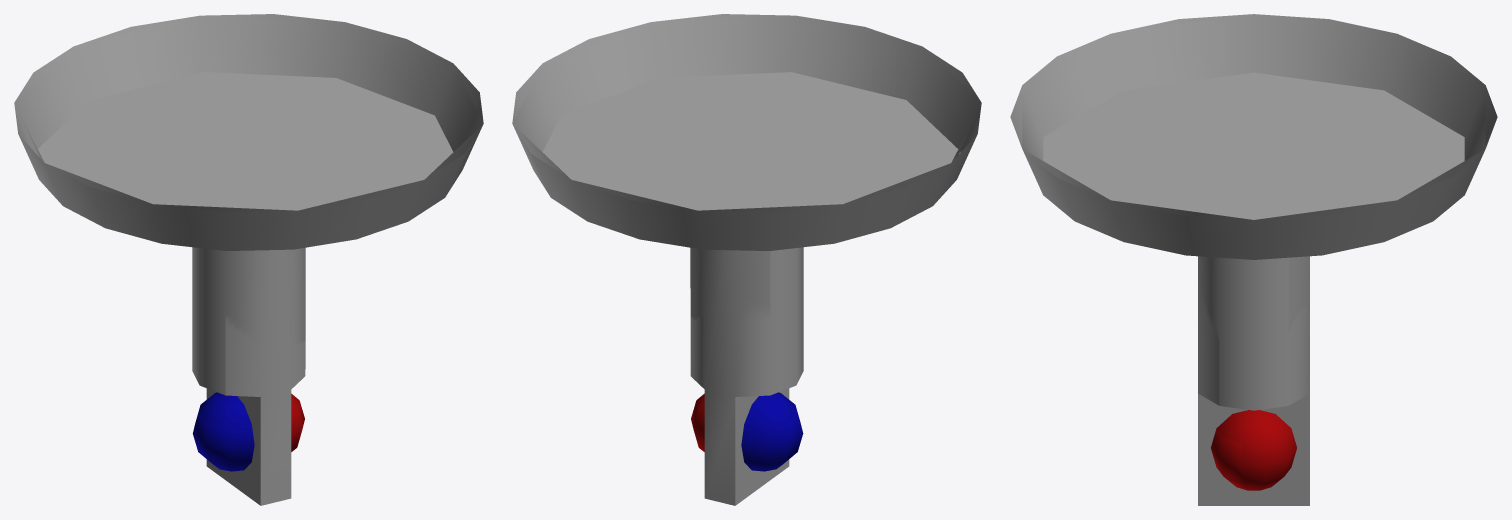
The model's file is SC19 Lamp V01.fbx.
The picture shows the model from 3 angles, left to right: view 1: azimuth 30°, elevation 25°; view 2: azimuth 150°, elevation 25°; view 3: azimuth 270°, elevation 25°; orthographic projection. The views are drawn at different scales.
Visible parts, largest first — view 1: SC19 - Chamber V01 Lamp 01 LOW, SC19 - Chamber V01 Lamp 01 HI, SC19 - Chamber V01 Lamp 02 LOW, SC19 - Chamber V01 Lamp 02 HI; view 2: SC19 - Chamber V01 Lamp 01 LOW, SC19 - Chamber V01 Lamp 02 LOW, SC19 - Chamber V01 Lamp 01 HI, SC19 - Chamber V01 Lamp 02 HI; view 3: SC19 - Chamber V01 Lamp 01 LOW, SC19 - Chamber V01 Lamp 02 LOW, SC19 - Chamber V01 Lamp 01 HI, SC19 - Chamber V01 Lamp 02 HI.
Boxes of the visible parts, left/top/right/bottom form: SC19 - Chamber V01 Lamp 01 LOW: left=14, top=15, right=483, bottom=212; SC19 - Chamber V01 Lamp 01 HI: left=14, top=14, right=483, bottom=250; SC19 - Chamber V01 Lamp 02 LOW: left=192, top=247, right=305, bottom=471; SC19 - Chamber V01 Lamp 02 HI: left=192, top=315, right=305, bottom=505; SC19 - Chamber V01 Lamp 01 LOW: left=512, top=15, right=981, bottom=212; SC19 - Chamber V01 Lamp 02 LOW: left=690, top=247, right=803, bottom=505; SC19 - Chamber V01 Lamp 01 HI: left=512, top=14, right=981, bottom=250; SC19 - Chamber V01 Lamp 02 HI: left=690, top=247, right=803, bottom=505; SC19 - Chamber V01 Lamp 01 LOW: left=1022, top=14, right=1485, bottom=219; SC19 - Chamber V01 Lamp 02 LOW: left=1198, top=256, right=1309, bottom=505; SC19 - Chamber V01 Lamp 01 HI: left=1010, top=14, right=1497, bottom=259; SC19 - Chamber V01 Lamp 02 HI: left=1198, top=256, right=1309, bottom=482.
Size of the model in its own units: 0.198 by 0.171 by 0.198.
